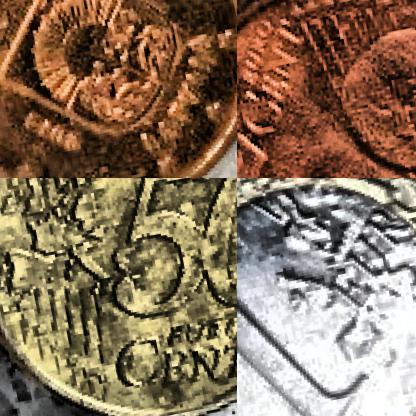coin: (0, 178, 236, 415), (237, 178, 415, 415), (0, 0, 236, 177), (237, 0, 415, 177)
